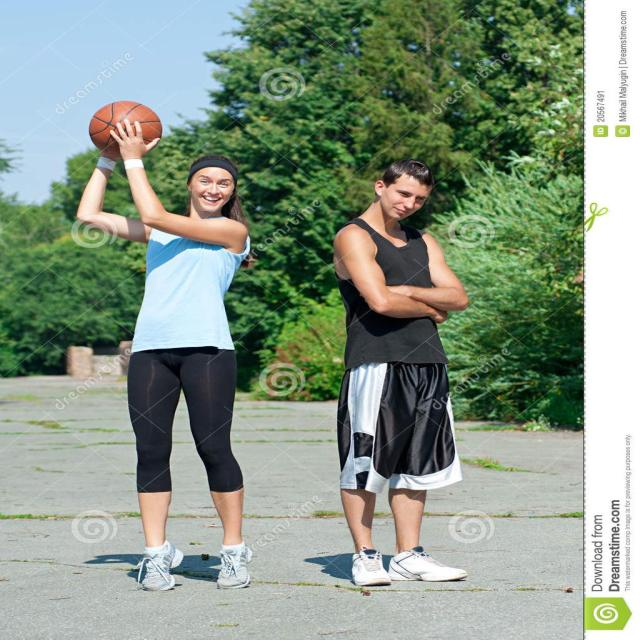Face: (373, 166, 439, 223), (184, 169, 242, 218)
